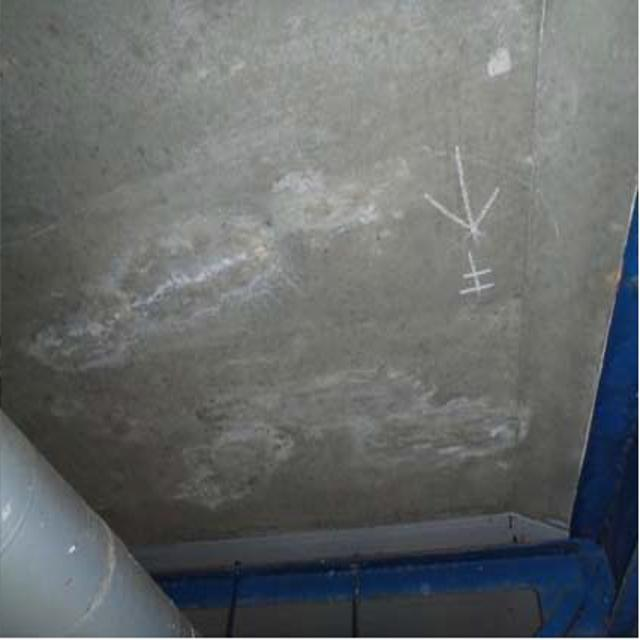freelime: (46, 163, 408, 367), (141, 409, 530, 510)
